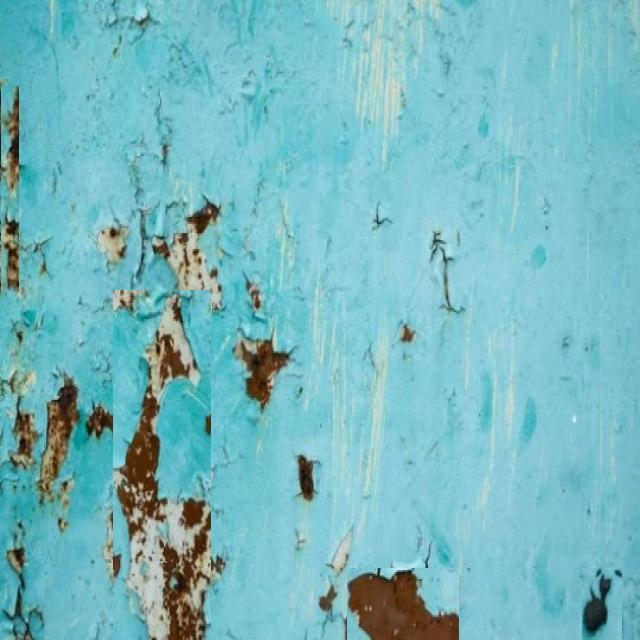Corrosion: (114, 295, 222, 640), (153, 200, 223, 310), (349, 572, 460, 640), (146, 295, 200, 400), (37, 376, 78, 496), (234, 338, 291, 410), (0, 549, 41, 640), (96, 219, 140, 290), (431, 230, 465, 314), (9, 412, 37, 470), (585, 576, 613, 634), (5, 86, 19, 194), (102, 510, 121, 580), (2, 219, 18, 290), (329, 530, 352, 574), (86, 405, 113, 438), (585, 597, 609, 634), (112, 290, 144, 312), (300, 456, 315, 502), (319, 587, 338, 612), (401, 324, 416, 342)
